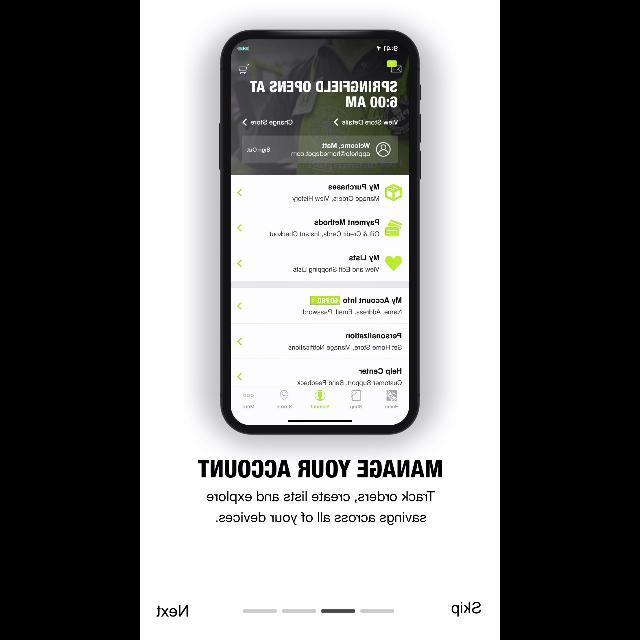image: (218, 30, 420, 434)
pageindicator: (242, 609, 394, 613)
text: (206, 491, 434, 525), (198, 460, 442, 478), (451, 602, 481, 616), (156, 605, 188, 617)
